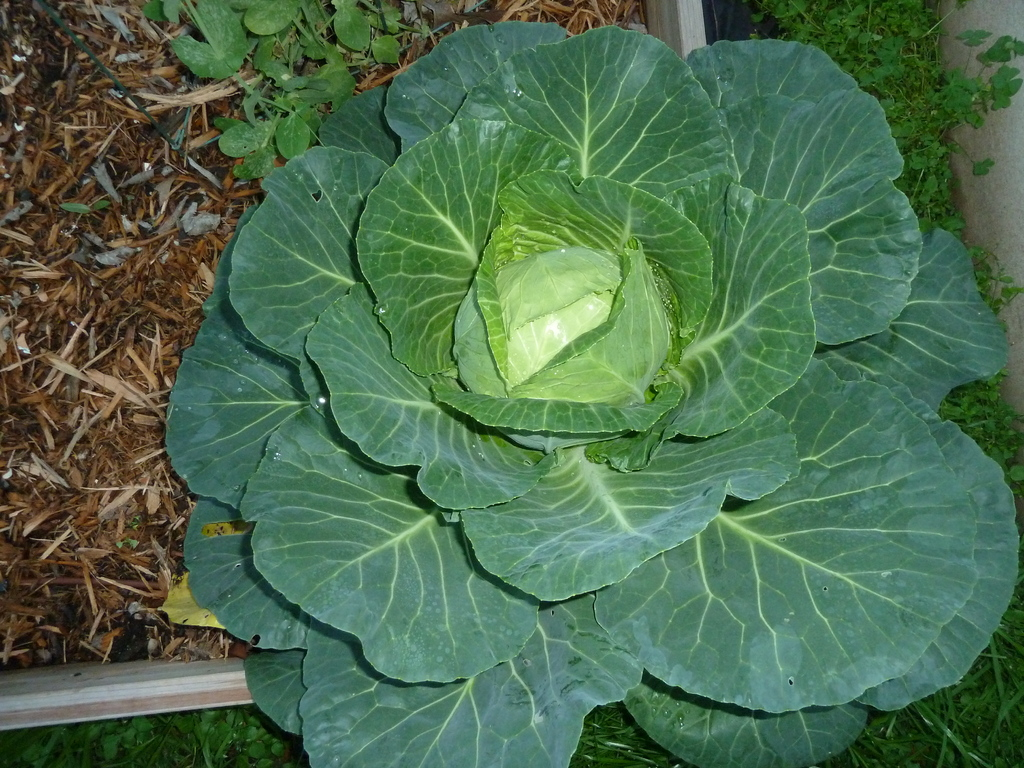Cabbage: (164, 20, 1019, 768)
